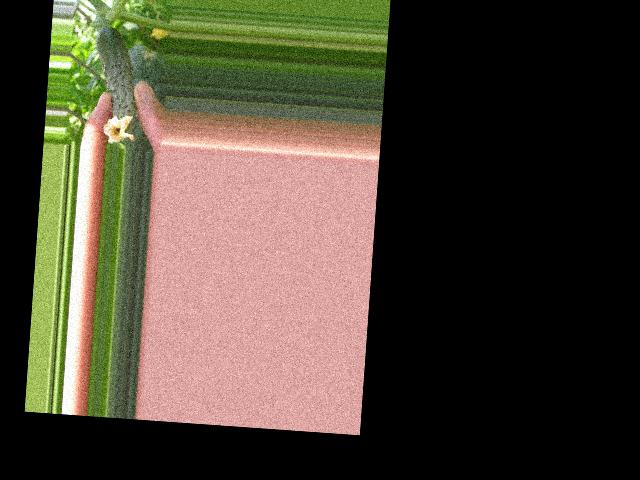cucumber: (89, 25, 142, 143)
